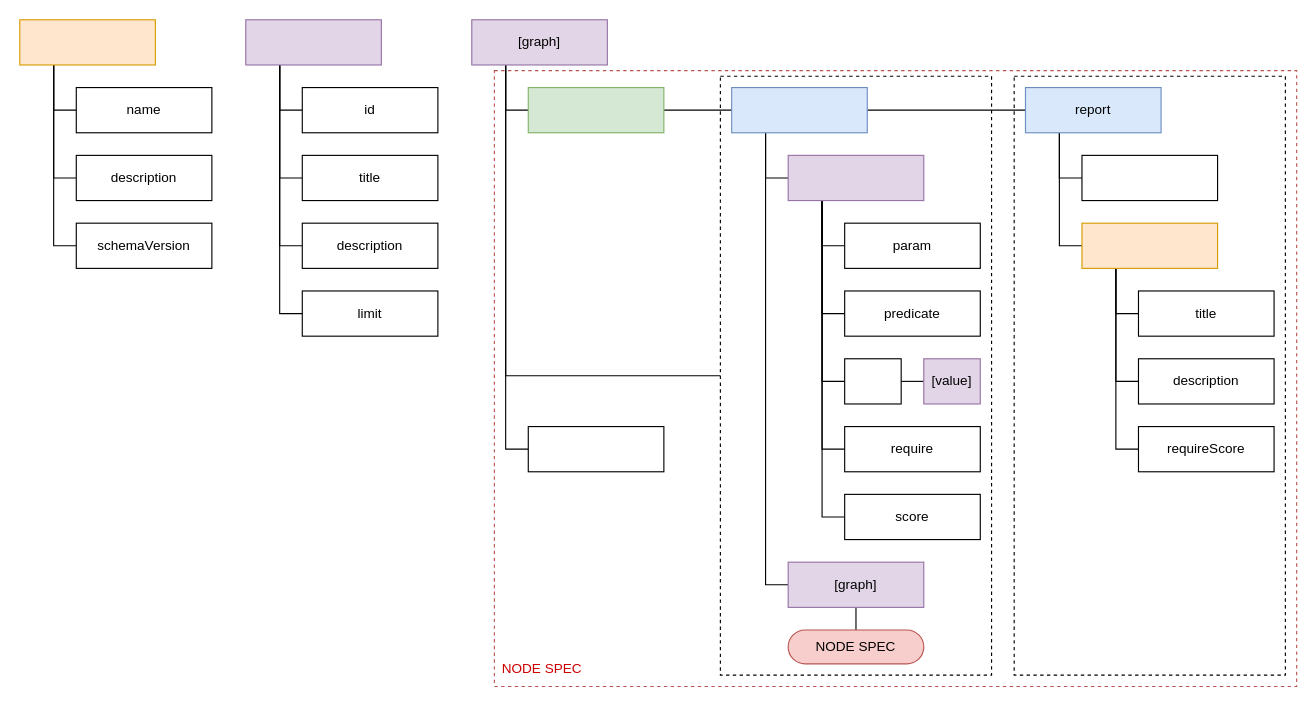
Some shapes in this 1316 by 706 pixel diagram are drawn without their labels. Each missing label, with the centre of its shape:
[stack]: (313,42)
[statements]: (855,177)
comment: (595,448)
condition: (799,109)
stack: (1149,177)
type: (595,109)
value: (872,381)
{meta}: (87,42)
{report}: (1149,245)
